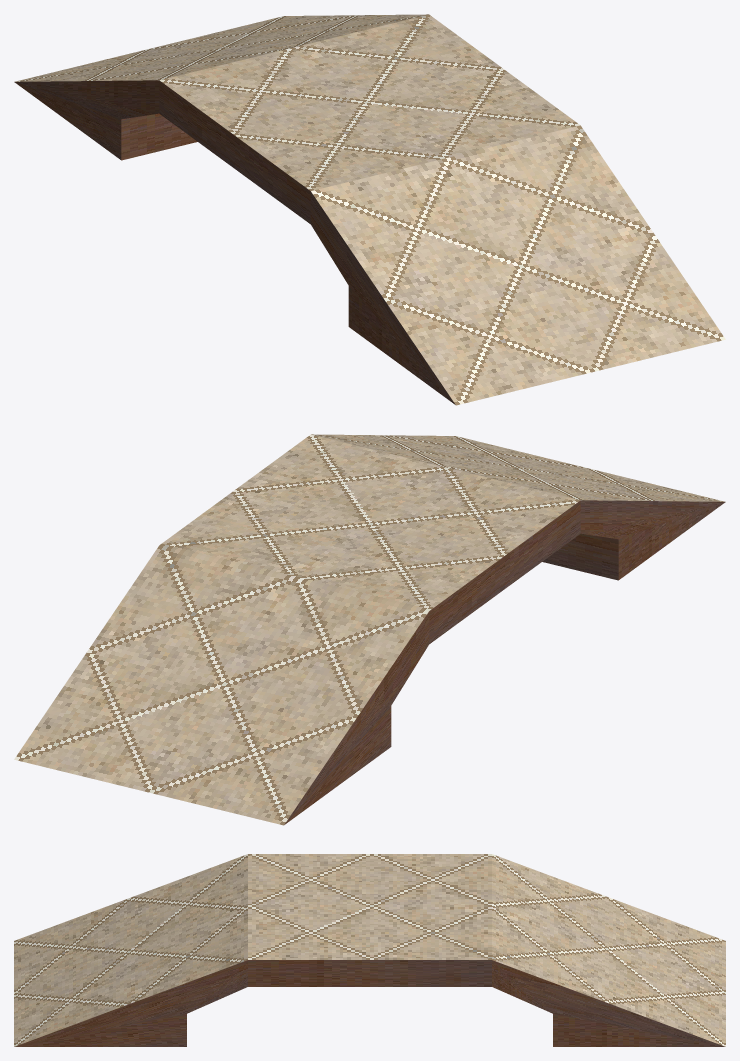
Rendered from bridge.obj.
3 views of the same model, one above another, from view 1: azimuth 30°, elevation 25°; view 2: azimuth 150°, elevation 25°; view 3: azimuth 270°, elevation 25° (orthographic). The views are drawn at different scales.
Parts seen in each view (by area): view 1: Cube_Cube.001; view 2: Cube_Cube.001; view 3: Cube_Cube.001.
Boxes of the visible parts, x1,y1,x2,y2 form: Cube_Cube.001: (14,14,725,405); Cube_Cube.001: (14,434,725,825); Cube_Cube.001: (14,854,725,1046).
Bounding box in the file's own units: 0.4538 × 0.1734 × 1.29.
Materials: 2 (2 with a texture image).
